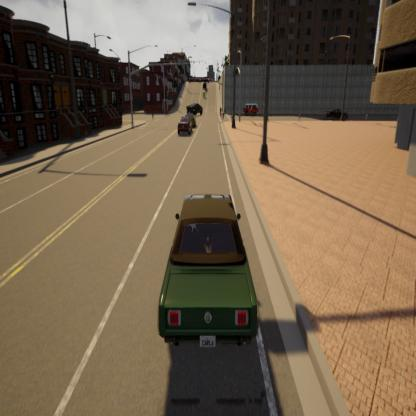Cars: (156, 192, 262, 351), (325, 105, 349, 121), (177, 113, 193, 136), (186, 100, 205, 118), (182, 109, 198, 130), (240, 102, 259, 117)
Pedestrian: (218, 102, 223, 119)
